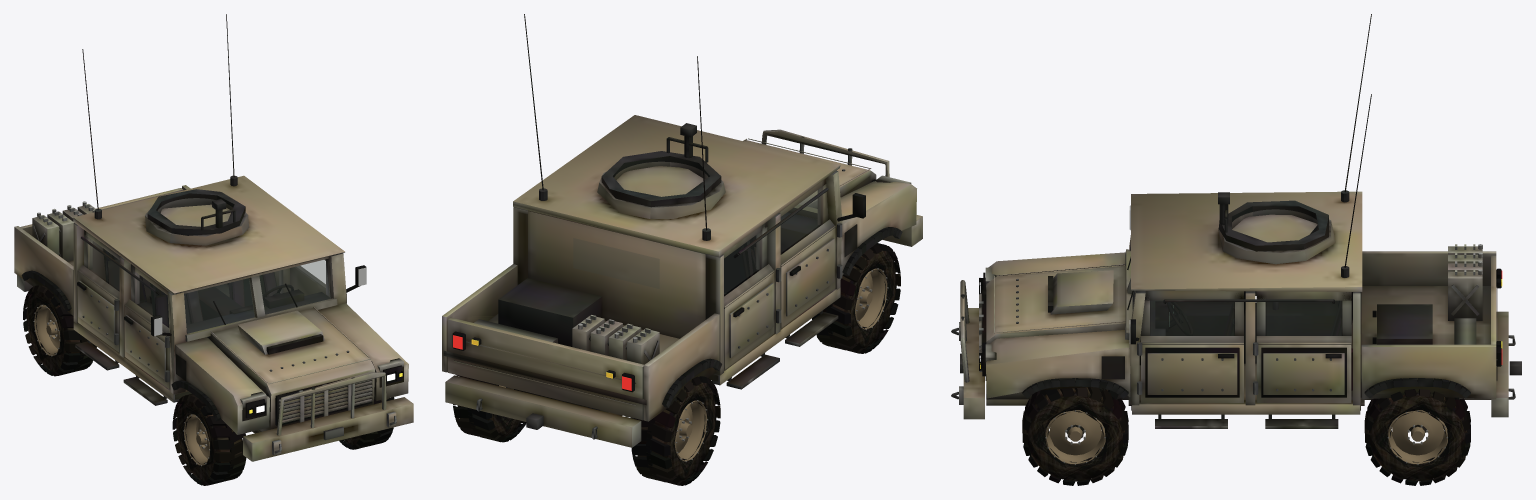
Rendered from military-utility-vehicle_card.glb.
The picture shows the model from 3 angles, left to right: view 1: azimuth 30°, elevation 25°; view 2: azimuth 150°, elevation 25°; view 3: azimuth 270°, elevation 25°; orthographic projection. The views are drawn at different scales.
Visible parts, largest first — view 1: body, fittings, wheel_FR_mesh, wheel_RR_mesh, door_FR_mesh, door_RR_mesh, door_FL_mesh, door_FR_fittings, door_RR_fittings, wheel_FL_mesh, door_FL_fittings; view 2: body, wheel_RR_mesh, wheel_FR_mesh, door_FR_mesh, door_RR_mesh, fittings, wheel_RL_mesh, door_FR_fittings, door_RR_fittings; view 3: body, wheel_FL_mesh, door_FL_mesh, wheel_RL_mesh, door_RL_mesh, door_FL_fittings, door_RL_fittings.
Boxes of the visible parts, <box> form: body: <box>14,14,413,461</box>; fittings: <box>154,260,402,413</box>; wheel_FR_mesh: <box>172,394,246,485</box>; wheel_RR_mesh: <box>23,285,96,376</box>; door_FR_mesh: <box>124,264,170,389</box>; door_RR_mesh: <box>77,230,120,352</box>; door_FL_mesh: <box>290,259,346,303</box>; door_FR_fittings: <box>137,273,168,325</box>; door_RR_fittings: <box>90,239,119,289</box>; wheel_FL_mesh: <box>339,397,394,449</box>; door_FL_fittings: <box>295,260,325,289</box>; body: <box>442,14,922,447</box>; wheel_RR_mesh: <box>631,376,720,485</box>; wheel_FR_mesh: <box>812,243,900,353</box>; door_FR_mesh: <box>779,178,842,328</box>; door_RR_mesh: <box>722,222,781,369</box>; fittings: <box>453,191,816,390</box>; wheel_RL_mesh: <box>453,375,526,442</box>; door_FR_fittings: <box>781,189,820,252</box>; door_RR_fittings: <box>724,233,759,293</box>; body: <box>951,14,1521,432</box>; wheel_FL_mesh: <box>1022,387,1128,485</box>; door_FL_mesh: <box>1137,290,1243,402</box>; wheel_RL_mesh: <box>1364,389,1470,485</box>; door_RL_mesh: <box>1253,291,1351,402</box>; door_FL_fittings: <box>1150,301,1234,335</box>; door_RL_fittings: <box>1266,301,1341,335</box>.
Size of the model in its own units: 2.67 by 4.01 by 5.42.
11 materials, 2 textured.
